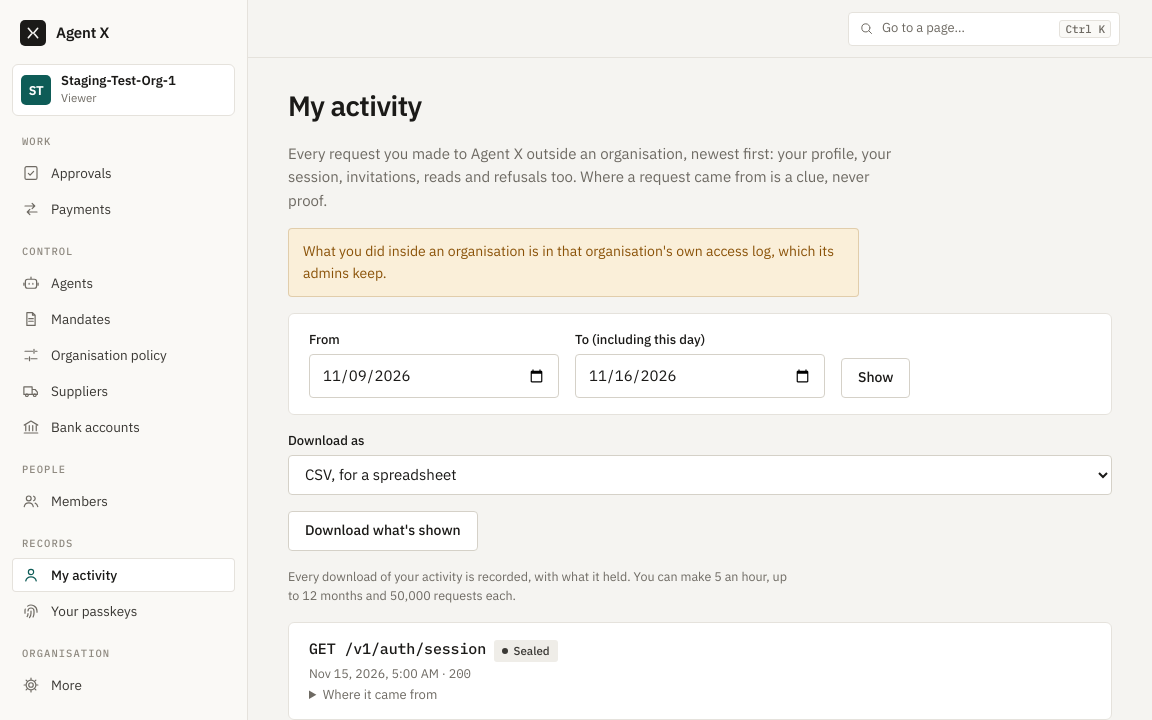
Test: My activity (6E1a) › says ACTIVITY_EXPORTS_SPENT in plain words
Click the button "Download what's shown" at (383, 531), box left=288, top=511, right=478, bottom=551
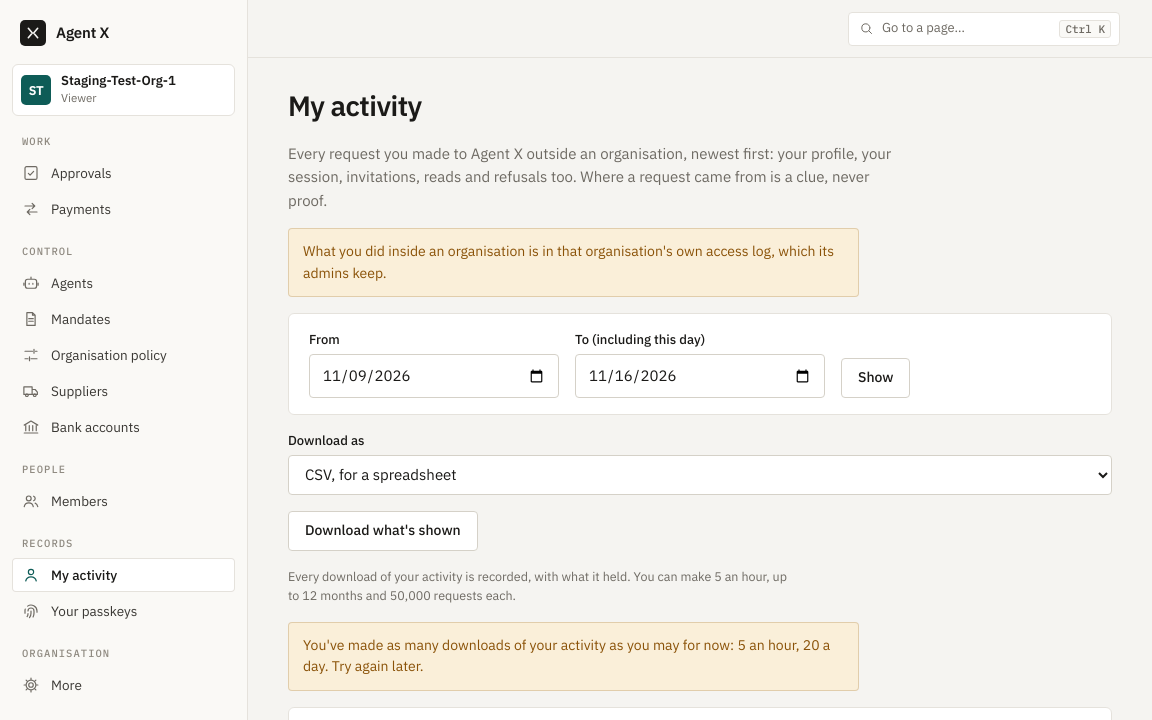
Expected: the text "downloads of your activity as you may for now: 5 an hour, 20 a day" is shown, left=303, top=636, right=830, bottom=675
